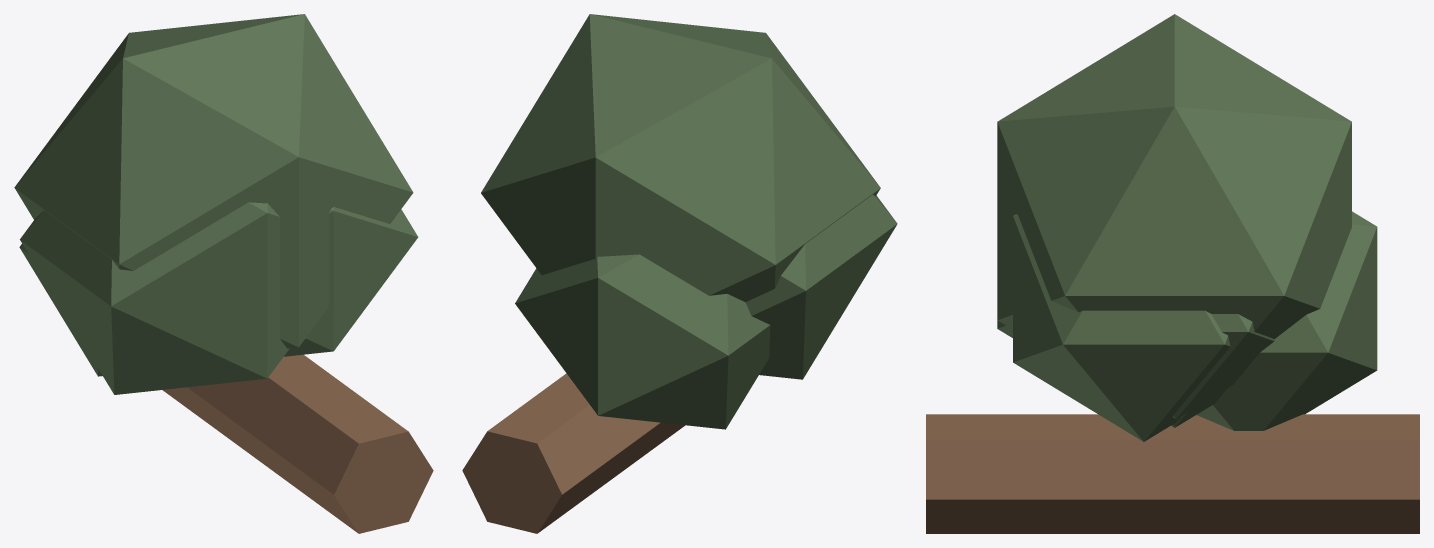
The model's file is tree_s7_07.glb.
The picture shows the model from 3 angles, left to right: view 1: azimuth 30°, elevation 25°; view 2: azimuth 150°, elevation 25°; view 3: azimuth 270°, elevation 25°; orthographic projection. The views are drawn at different scales.
Visible parts, largest first — view 1: geometry_0; view 2: geometry_0; view 3: geometry_0.
Part boxes in pixels (bbox=[...]): geometry_0: bbox=[14, 14, 433, 533]; geometry_0: bbox=[462, 14, 897, 533]; geometry_0: bbox=[926, 14, 1419, 533].
Bounding box in the file's own units: 2.53 × 3.24 × 3.34.
